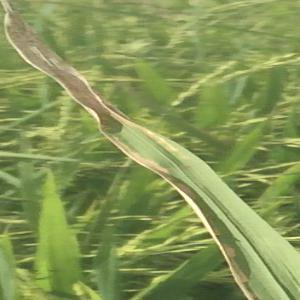2 BacterialBlight: (101, 101, 195, 198)
